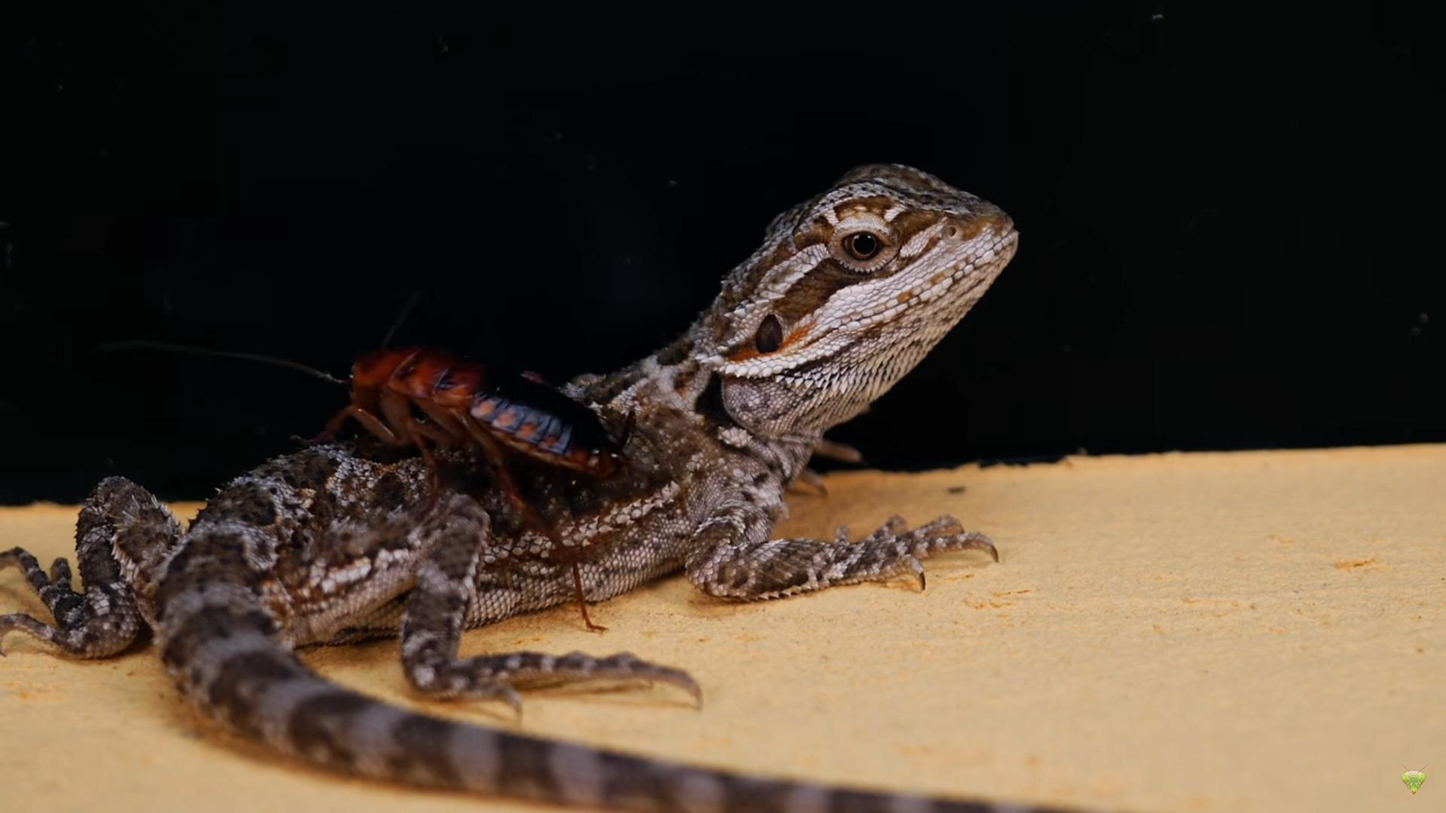cockroach: (308, 334, 641, 509)
lizard: (36, 134, 1019, 802)
